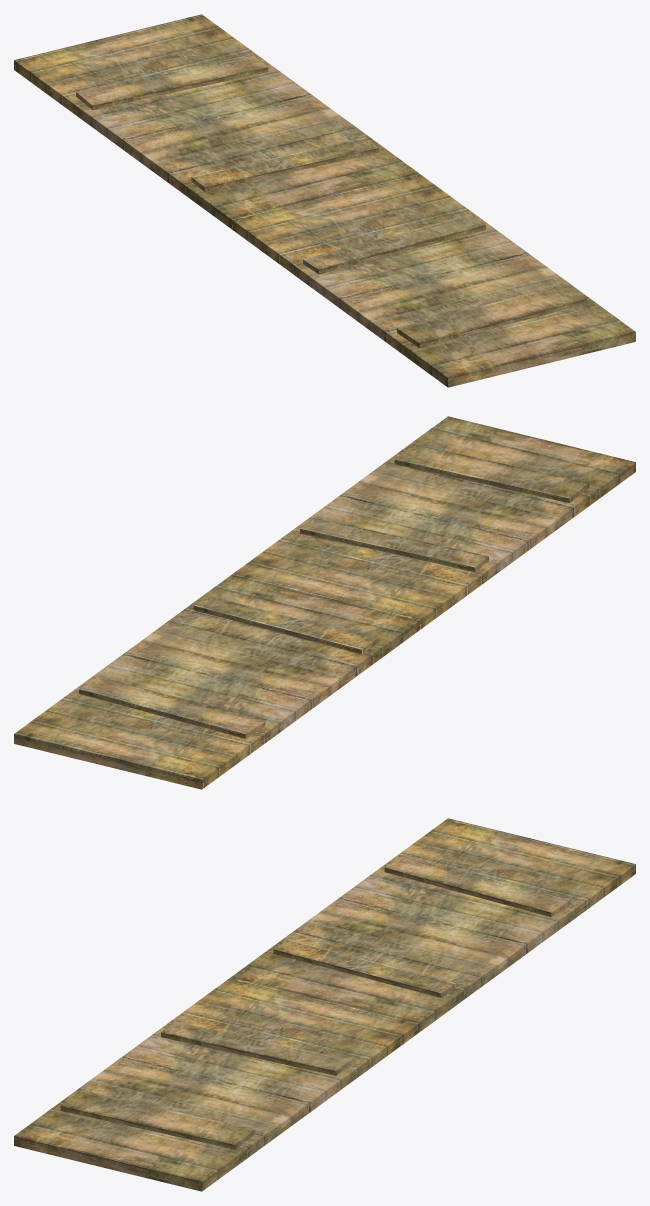
File: pir_m_prp_shp_gangplank_weathered.fbx
3 renders of one model, top to bottom at view 1: azimuth 30°, elevation 25°; view 2: azimuth 150°, elevation 25°; view 3: azimuth 330°, elevation 25°, orthographic.
Visible parts, largest first — view 1: gangplank.001; view 2: gangplank.001; view 3: gangplank.001.
Part boxes in pixels (x1,y1,x2,y2): gangplank.001: (14,14,635,387); gangplank.001: (14,416,635,789); gangplank.001: (14,818,635,1191).
Bounding box in the file's own units: 500 × 36.68 × 2000.
Materials: 1 (1 with a texture image).
